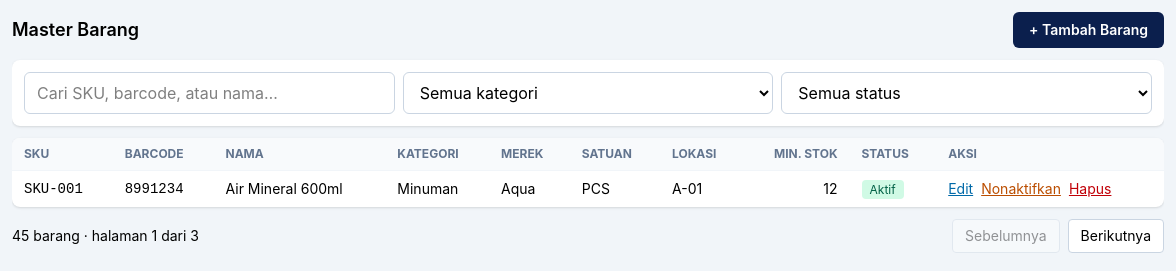
Scenario: Master Barang › paginasi: total 45 = 3 halaman; Berikutnya meminta halaman 2
Expected: the text "45 barang · halaman 1 dari 3" is shown, [12,226,199,246]
Expected: the button "Sebelumnya" is disabled, [952,219,1060,253]
What coordinates should you click on to do the following:
click the button "Berikutnya"
I would click on:
 (1116, 236)
Its box is [1068,219,1164,253].
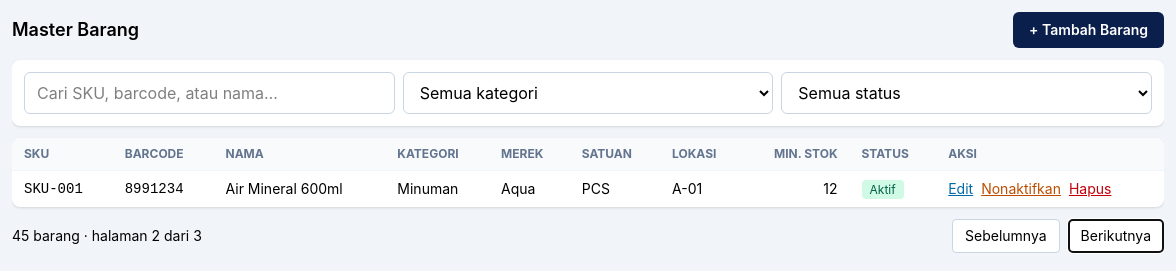
Expected: the text "45 barang · halaman 2 dari 3" is shown, [12,226,202,246]
